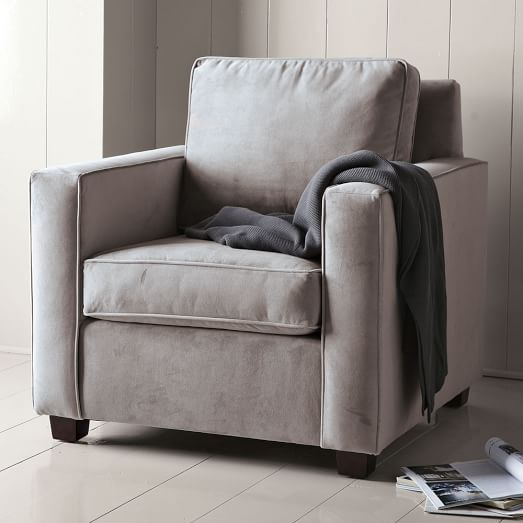chairs: (28, 41, 492, 483)
